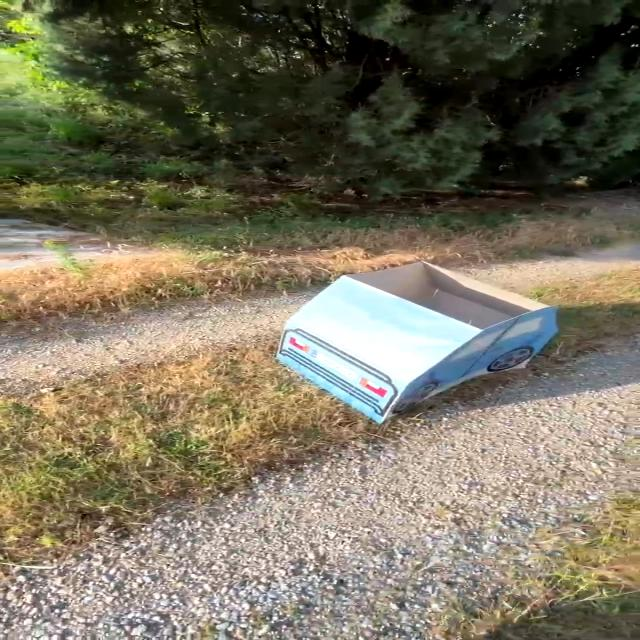blue_car: (199, 259, 575, 439)
